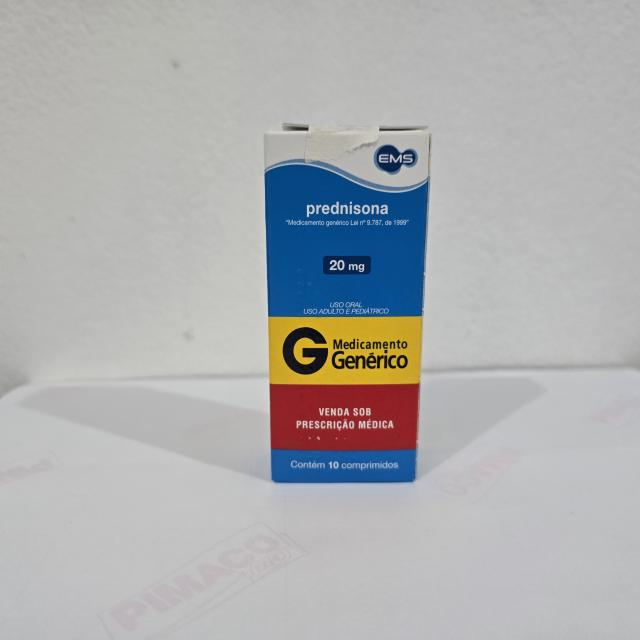prednisona: (258, 118, 434, 487)
